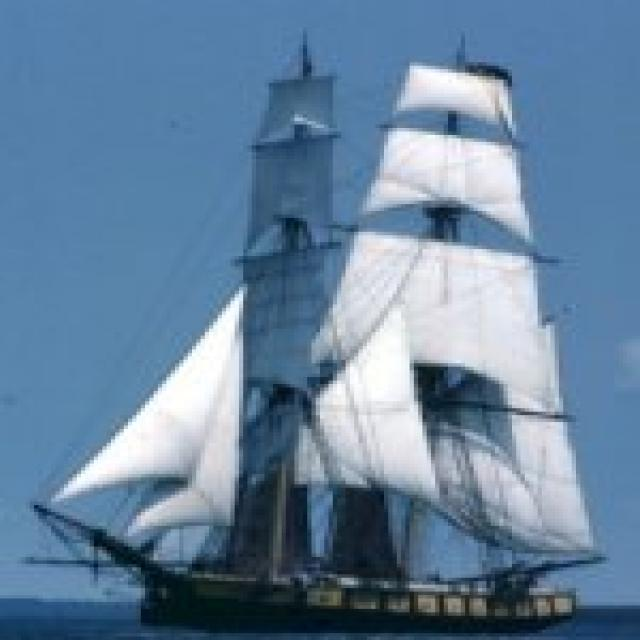Ship: (56, 39, 585, 634)
